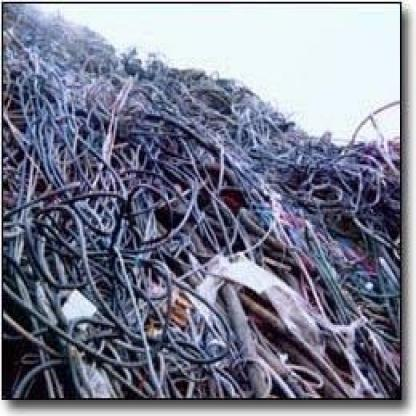wires: (2, 0, 402, 400)
